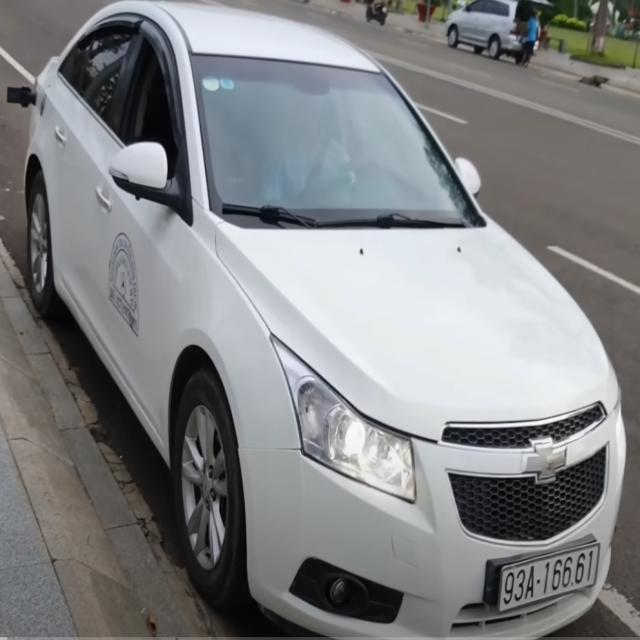car: (30, 8, 640, 640), (436, 0, 541, 62)
plate: (495, 542, 607, 612)
